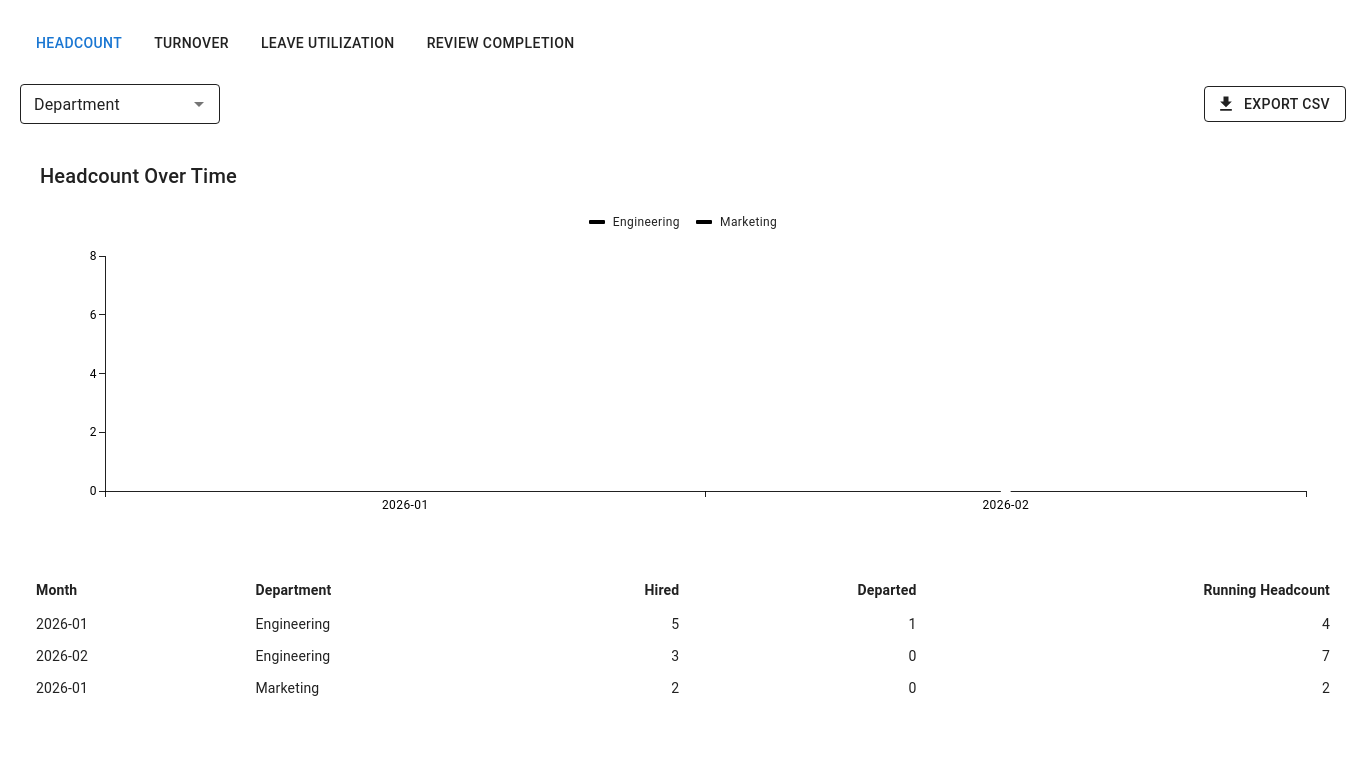
ReportsDashboard › shows empty state when no turnover data
This screenshot has width=1366, height=768.
Click the tab "Turnover" at coordinates (192, 44), box [138,20,245,68]
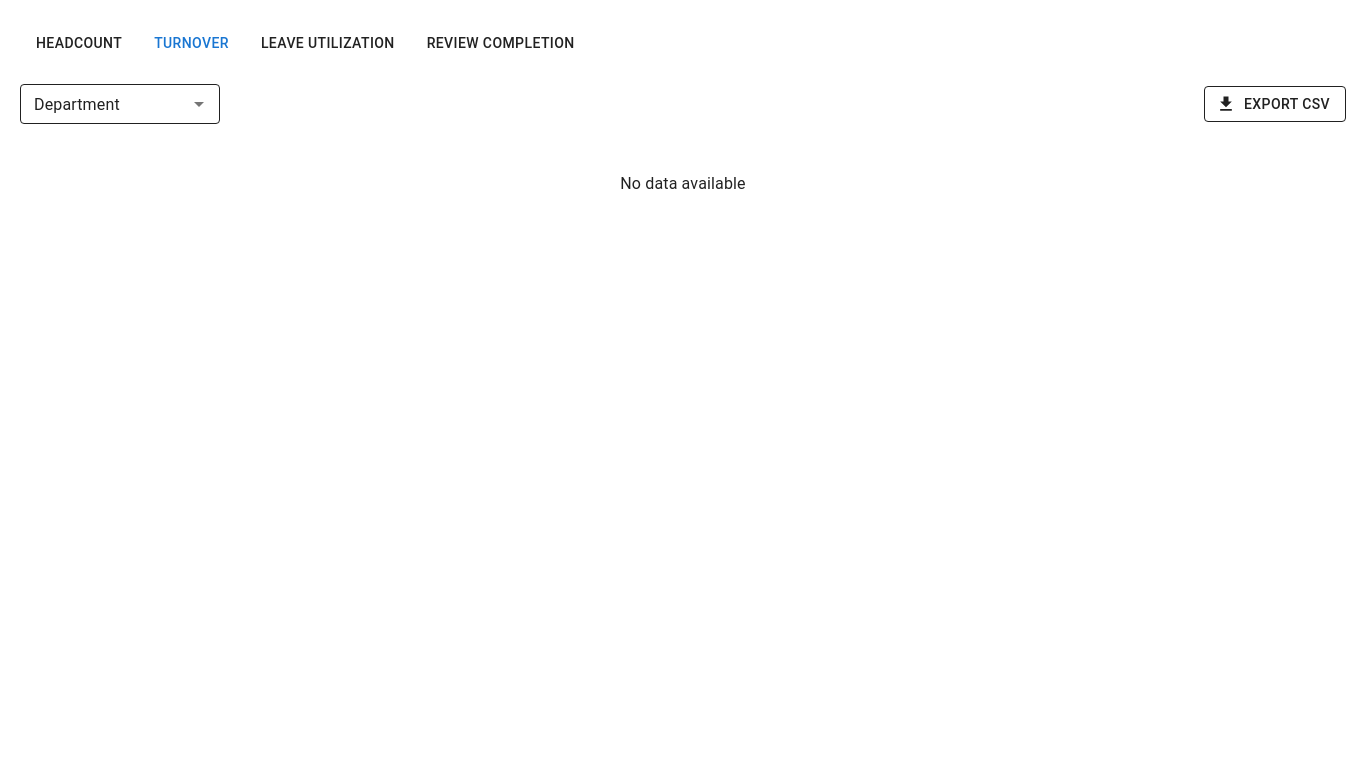
Check: the text "No data available" is shown, box [620,174,746,193]
